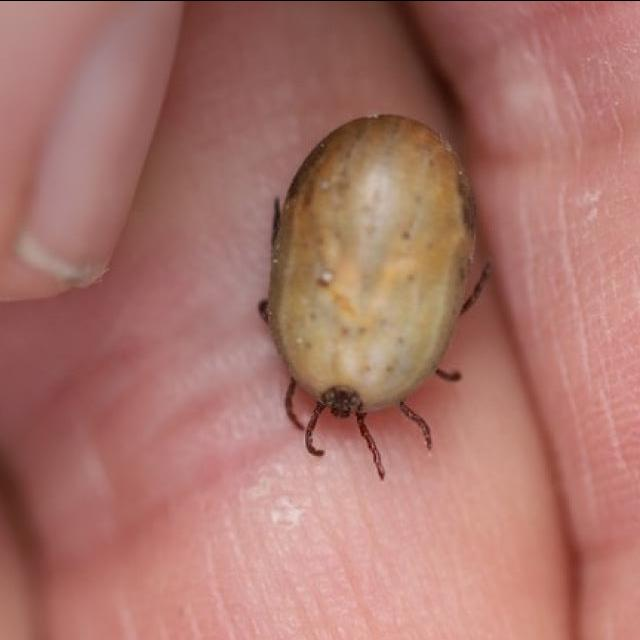Dermacentor Reticulatus-F-Fed: (258, 113, 493, 478)
